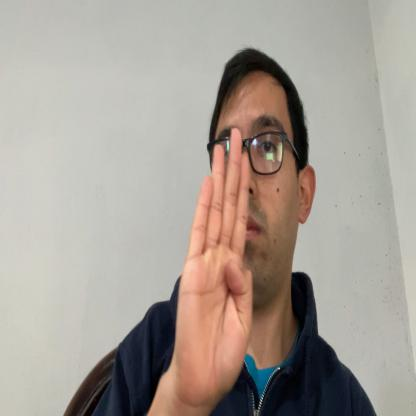B: (174, 126, 254, 406)
